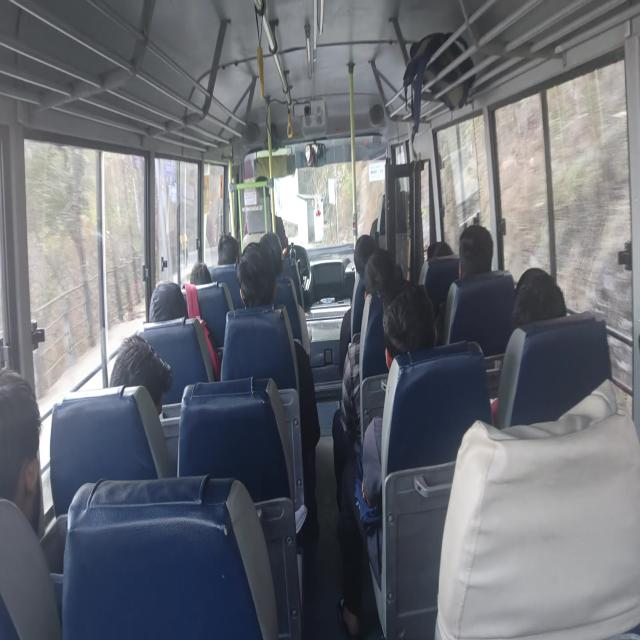person: (76, 344, 185, 454), (0, 380, 60, 500), (387, 282, 436, 355), (514, 271, 572, 330), (239, 241, 273, 321), (150, 279, 185, 330), (363, 256, 400, 302), (456, 237, 482, 281), (191, 260, 215, 292), (351, 242, 377, 271), (218, 238, 240, 270), (254, 231, 280, 258), (431, 242, 448, 271)
